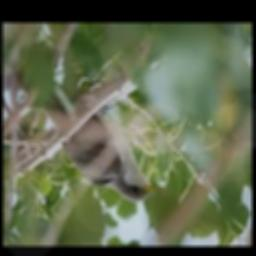Cuckoo: (45, 80, 165, 203)
